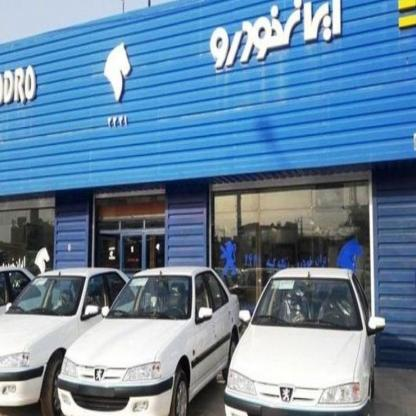Car: (75, 259, 240, 411), (224, 266, 378, 416), (0, 264, 125, 416)
